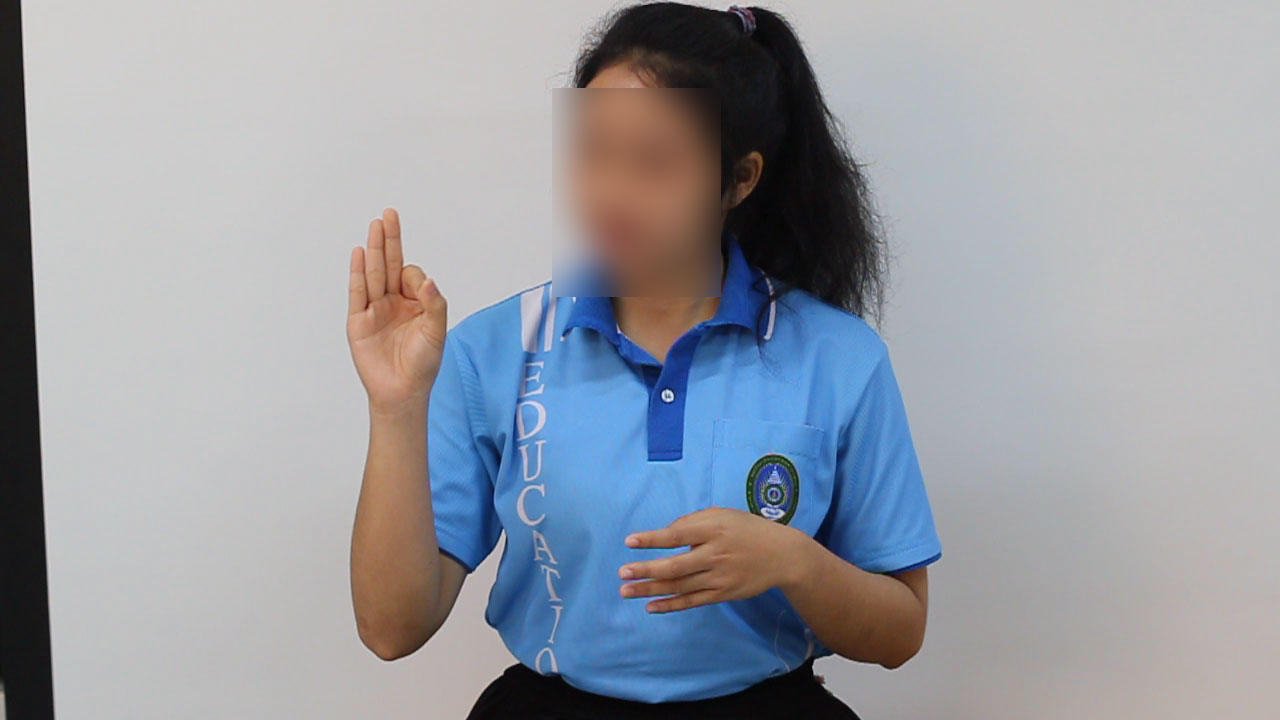for: (337, 196, 458, 431)
